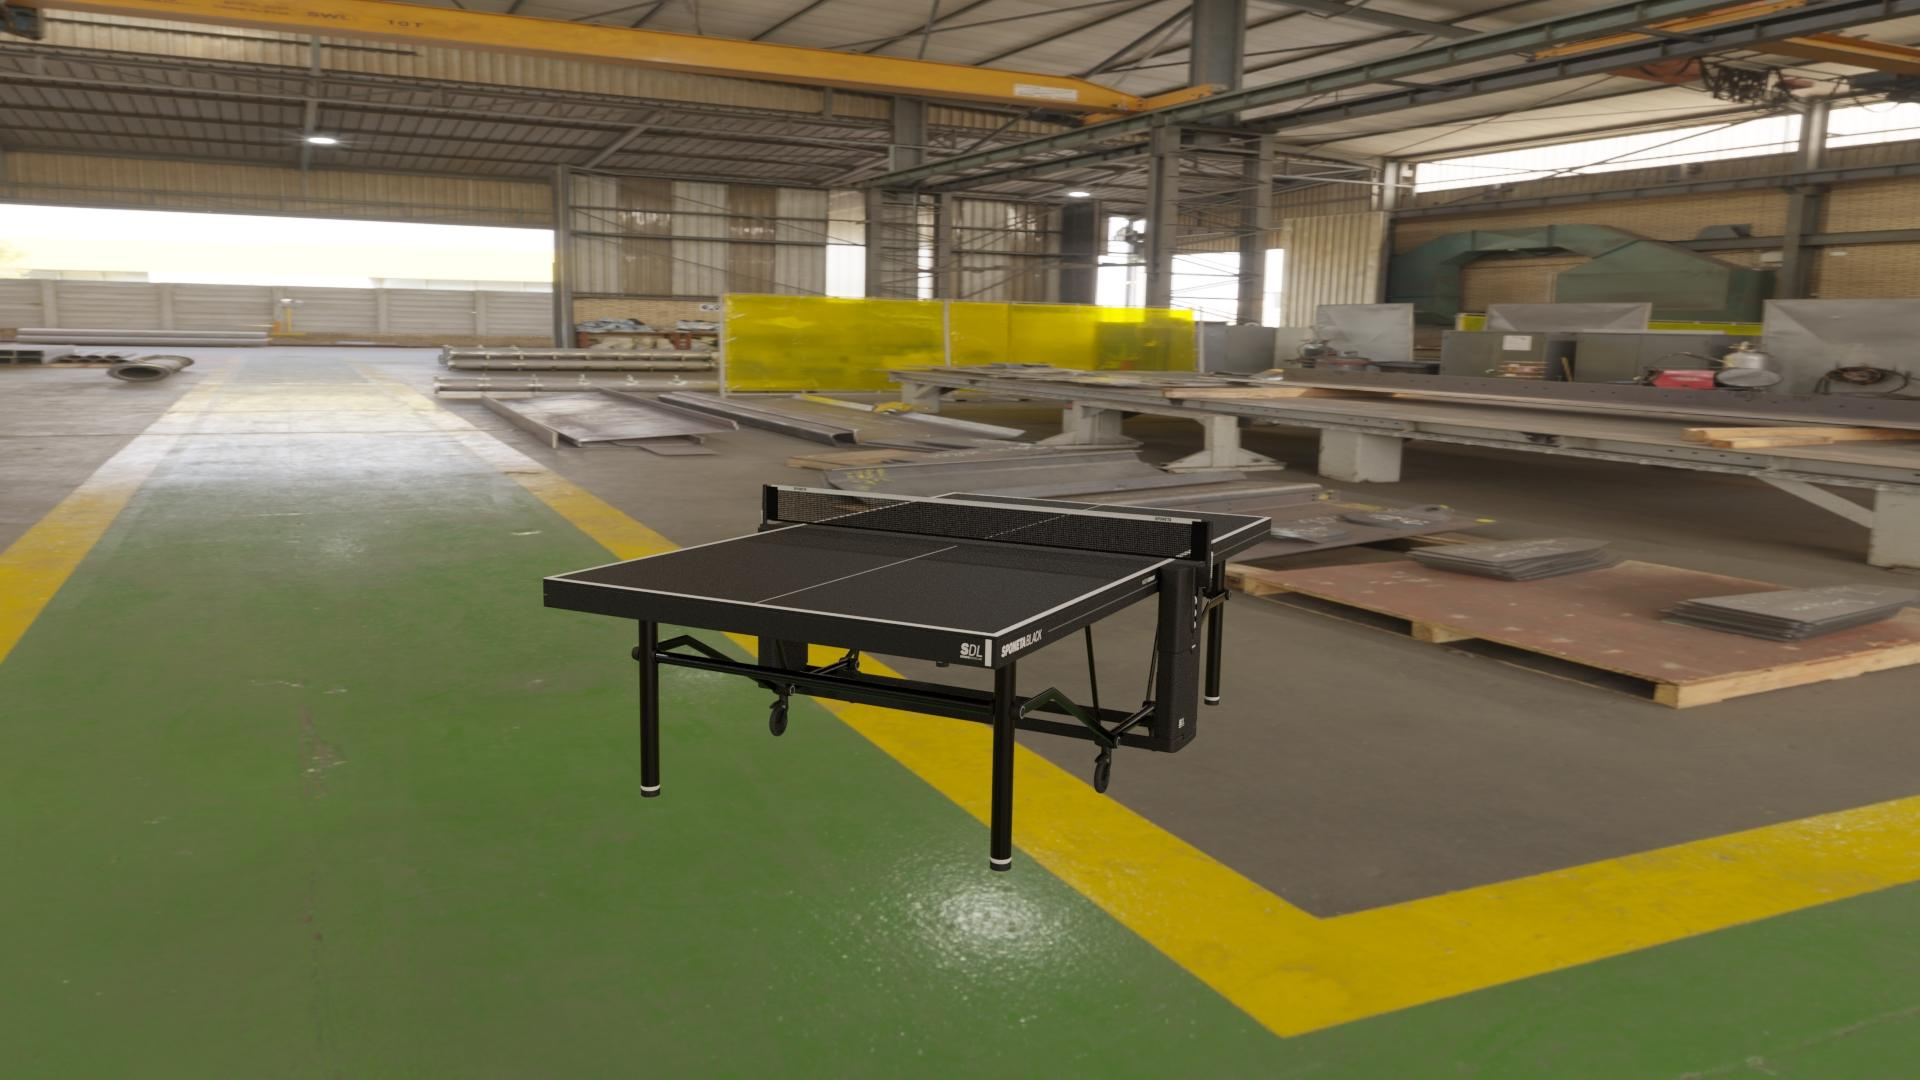table: (553, 493, 1266, 634)
